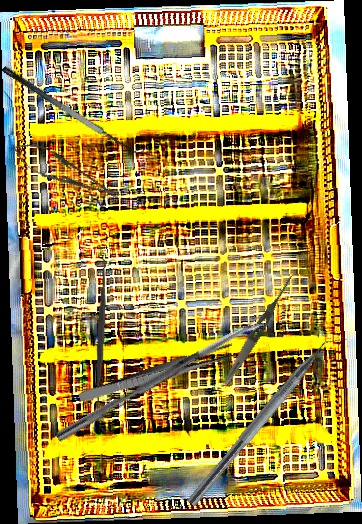Chopper: (186, 324, 350, 517)
Dressing Forceps: (77, 341, 237, 408), (221, 273, 296, 386)
Needle Holder: (6, 134, 125, 210)
Spatula Surgical: (1, 54, 148, 163), (89, 257, 114, 412)
Surgical Spoon: (55, 315, 265, 444)
